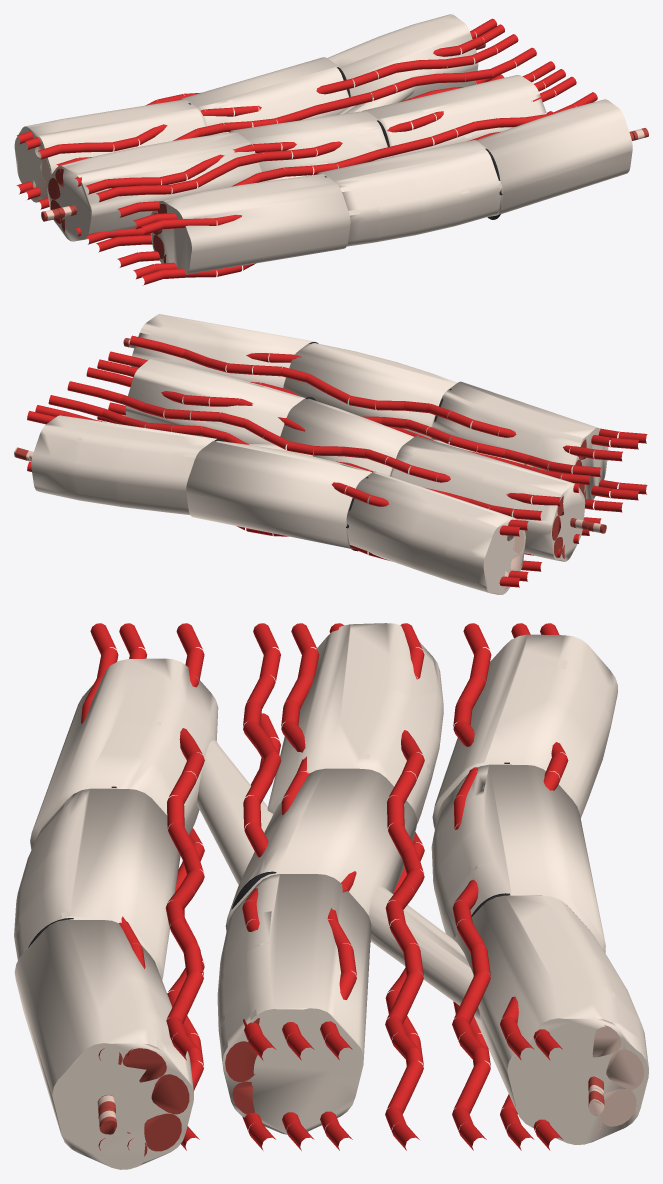
File: cardiac.glb
The picture shows the model from 3 angles, top to bottom: view 1: azimuth 30°, elevation 25°; view 2: azimuth 150°, elevation 25°; view 3: azimuth 270°, elevation 25°; orthographic projection. The views are drawn at different scales.
Parts seen in each view (by area): view 1: Endomysium, Capillaries, Cardiac muscle cells.004, Cardiac muscle cells.005; view 2: Endomysium, Capillaries, Cardiac muscle cells.004, Cardiac muscle cells.005; view 3: Endomysium, Capillaries, Cardiac muscle cells.011, Cardiac muscle cells.012, Cardiac muscle cells.010.
Boxes of the visible parts, left/top/right/bottom form: Endomysium: left=14, top=14, right=632, bottom=274; Capillaries: left=16, top=18, right=597, bottom=285; Cardiac muscle cells.004: left=48, top=168, right=64, bottom=232; Cardiac muscle cells.005: left=33, top=136, right=50, bottom=199; Endomysium: left=31, top=314, right=608, bottom=594; Capillaries: left=27, top=335, right=647, bottom=587; Cardiac muscle cells.004: left=552, top=495, right=564, bottom=558; Cardiac muscle cells.005: left=504, top=522, right=524, bottom=590; Endomysium: left=14, top=623, right=648, bottom=1169; Capillaries: left=81, top=623, right=568, bottom=1150; Cardiac muscle cells.011: left=118, top=1048, right=189, bottom=1156; Cardiac muscle cells.012: left=592, top=1025, right=643, bottom=1134; Cardiac muscle cells.010: left=225, top=1018, right=259, bottom=1114.
Bounding box in the file's own units: 58.49 × 7.33 × 33.2.
